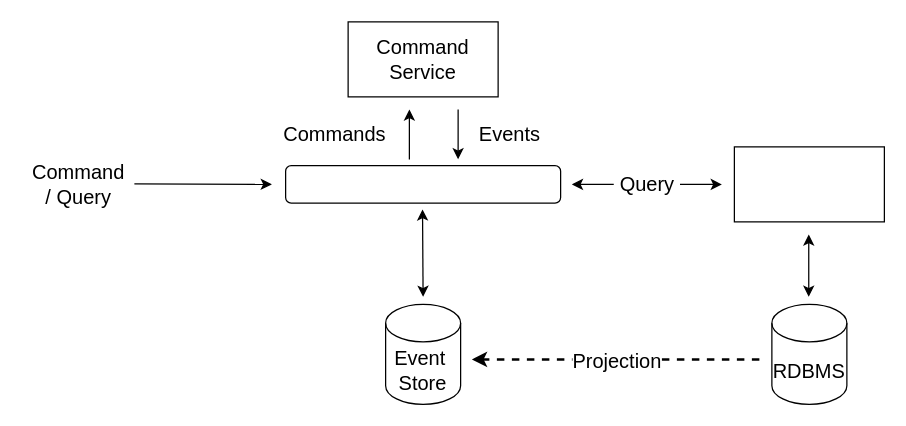
Image size: 906x426. Some labels were removed from this diagram. Here are the shapes that lost their labels. From the top down, the centre of each, then its label:
(x=422, y=183): BUS
(x=808, y=184): Query Service
